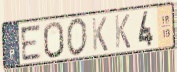4: (137, 10, 155, 48)
E: (19, 23, 43, 63)
K: (90, 16, 109, 53), (113, 13, 132, 50)
O: (65, 17, 89, 58), (42, 20, 66, 60)
